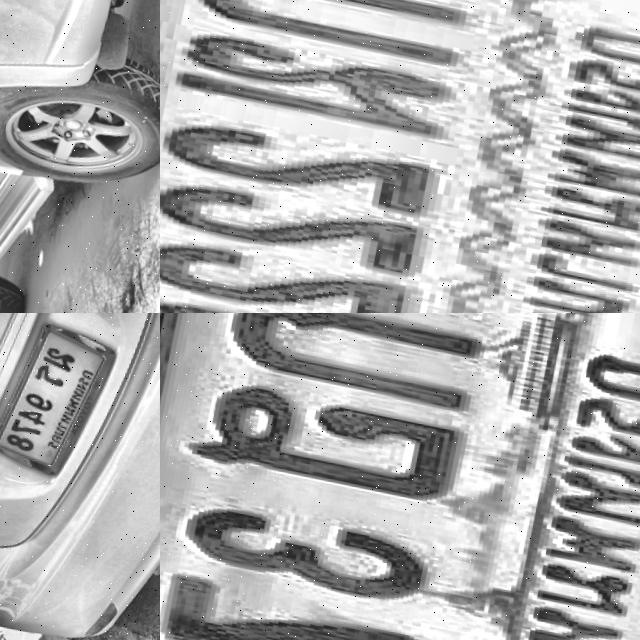license-plate: (160, 313, 640, 640), (160, 0, 640, 313), (0, 313, 120, 481)
